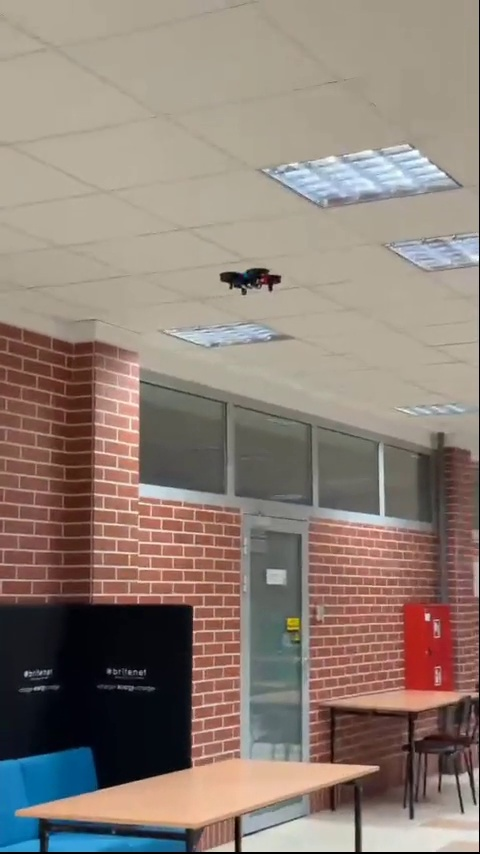drone: (216, 264, 282, 293)
